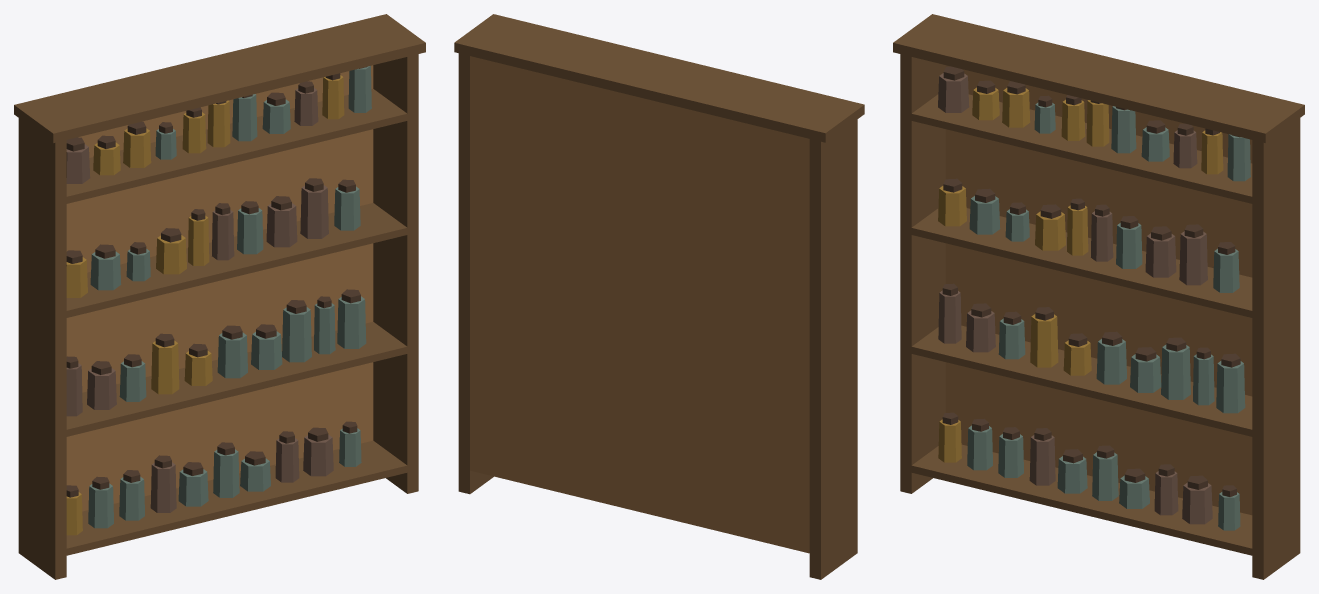
The model's file is JarShelves.fbx.
3 views of the same model, side by side, from view 1: azimuth 30°, elevation 25°; view 2: azimuth 150°, elevation 25°; view 3: azimuth 330°, elevation 25° (orthographic).
Parts seen in each view (by area): view 1: JarShelves; view 2: JarShelves; view 3: JarShelves.
Part boxes in pixels (<box>): JarShelves: <box>14,14,425,579</box>; JarShelves: <box>454,14,864,579</box>; JarShelves: <box>893,14,1304,579</box>.
Bounding box in the file's own units: 1.64 × 1.89 × 0.3.
